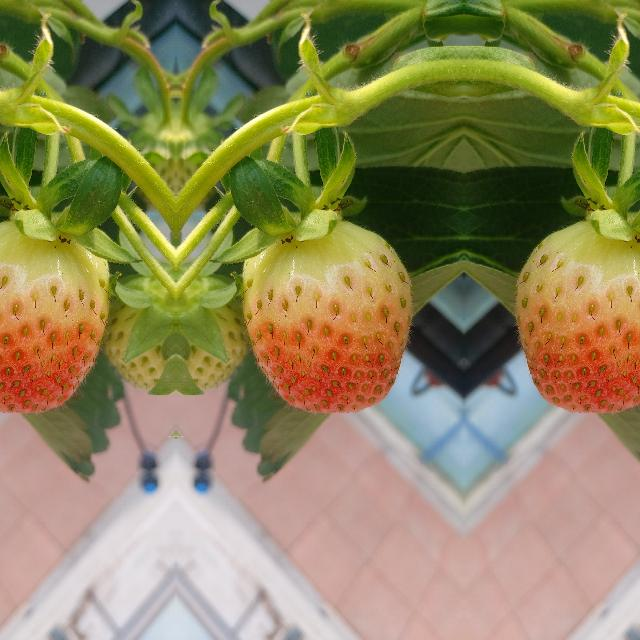Health_25: (176, 274, 244, 386), (106, 274, 174, 386)
Health_75: (240, 222, 410, 412), (516, 221, 640, 412), (0, 221, 110, 412)
